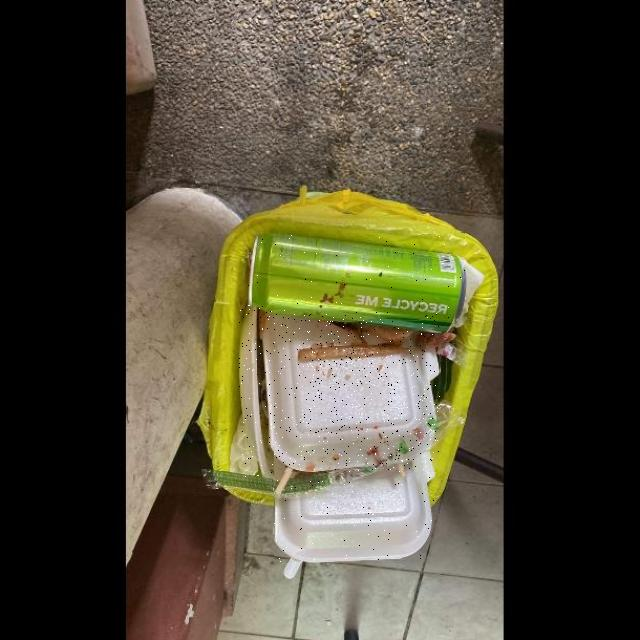metal: (248, 232, 465, 332)
styrofoam: (262, 312, 440, 471), (274, 450, 435, 562), (240, 305, 274, 478)
